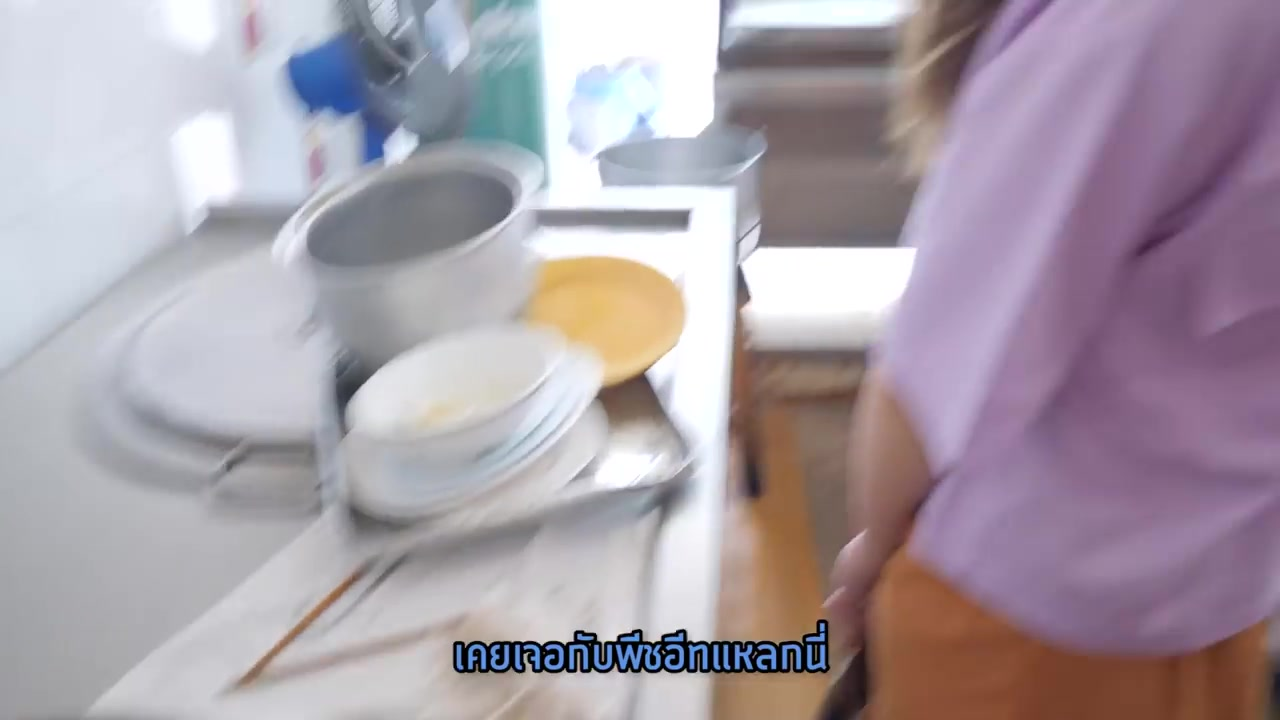text-label: (446, 614, 837, 682)
